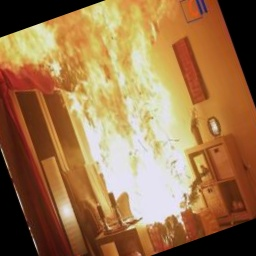fire: (18, 0, 236, 251)
